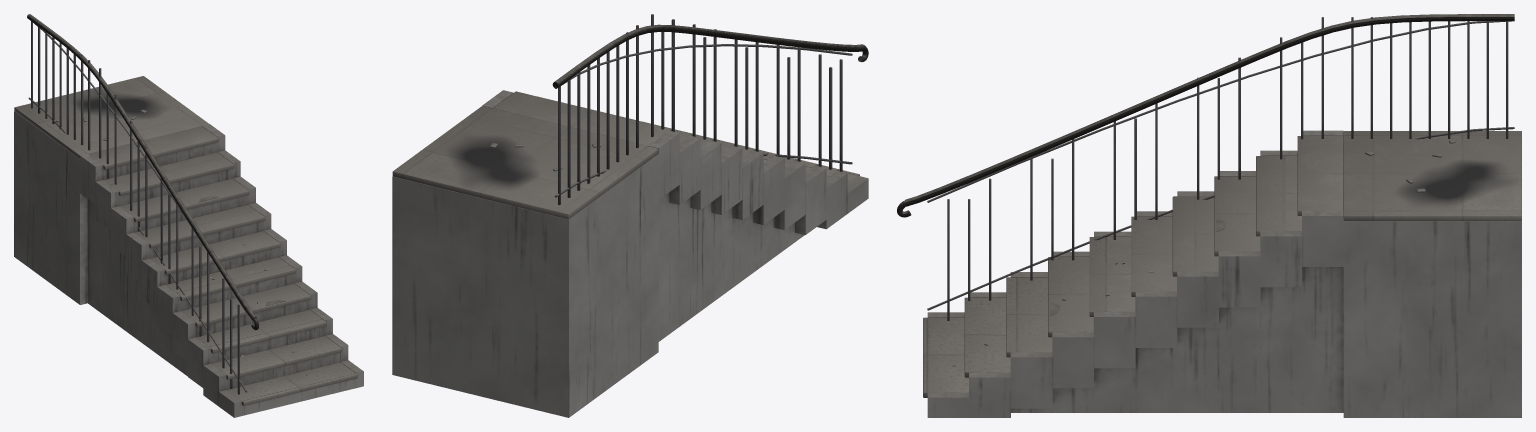
Rendered from SM_Stairs_Segment.fbx.
3 renders of one model, left to right at view 1: azimuth 30°, elevation 25°; view 2: azimuth 150°, elevation 25°; view 3: azimuth 270°, elevation 25°, orthographic. The views are drawn at different scales.
Parts seen in each view (by area): view 1: SM_Stairs_Segment; view 2: SM_Stairs_Segment; view 3: SM_Stairs_Segment.
Boxes of the visible parts, x1,y1,x2,y2 form: SM_Stairs_Segment: (14,14,363,417); SM_Stairs_Segment: (392,14,868,417); SM_Stairs_Segment: (897,14,1521,417).
Bounding box in the file's own units: 1.36 × 2.42 × 4.21.
2 materials, 1 textured.
